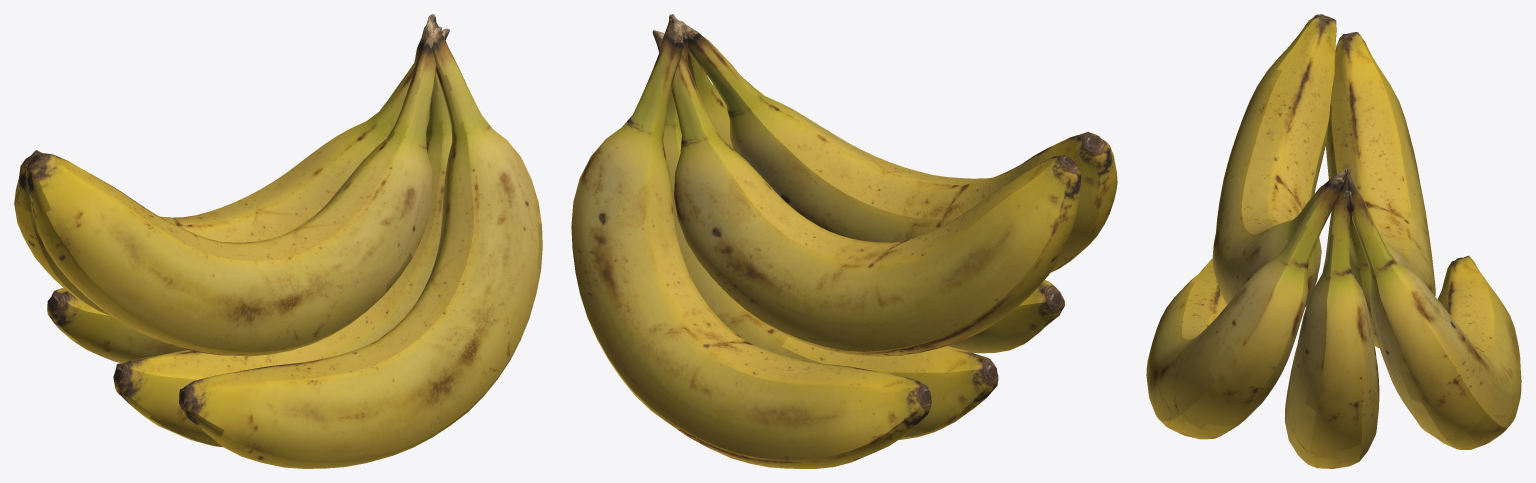
Rendered from Bananas.glb.
3 views of the same model, side by side, from view 1: azimuth 30°, elevation 25°; view 2: azimuth 150°, elevation 25°; view 3: azimuth 270°, elevation 25° (orthographic). The views are drawn at different scales.
Parts seen in each view (by area): view 1: Object_4.002; view 2: Object_4.002; view 3: Object_4.002.
Boxes of the visible parts, x1,y1,x2,y2 form: Object_4.002: (14,14,542,468); Object_4.002: (571,14,1117,468); Object_4.002: (1146,14,1521,468).
Bounding box in the file's own units: 0.1983 × 0.1513 × 0.1468.
Materials: 1 (1 with a texture image).
